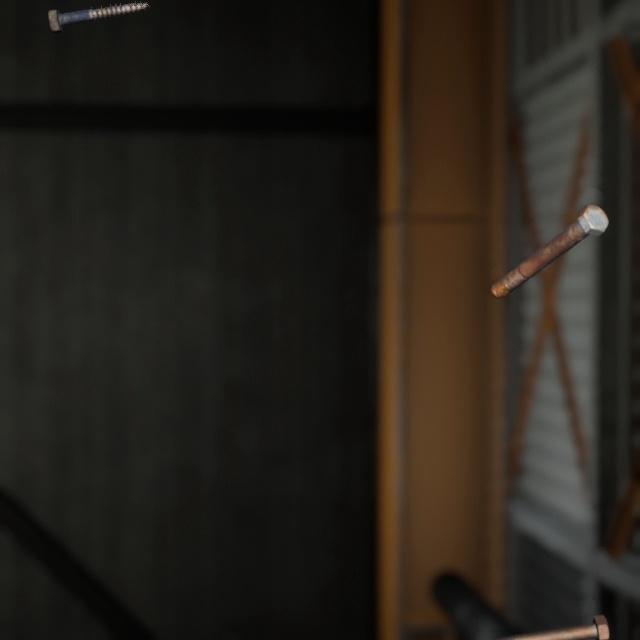bolt: (486, 183, 613, 287), (473, 586, 614, 635), (43, 0, 151, 29)
